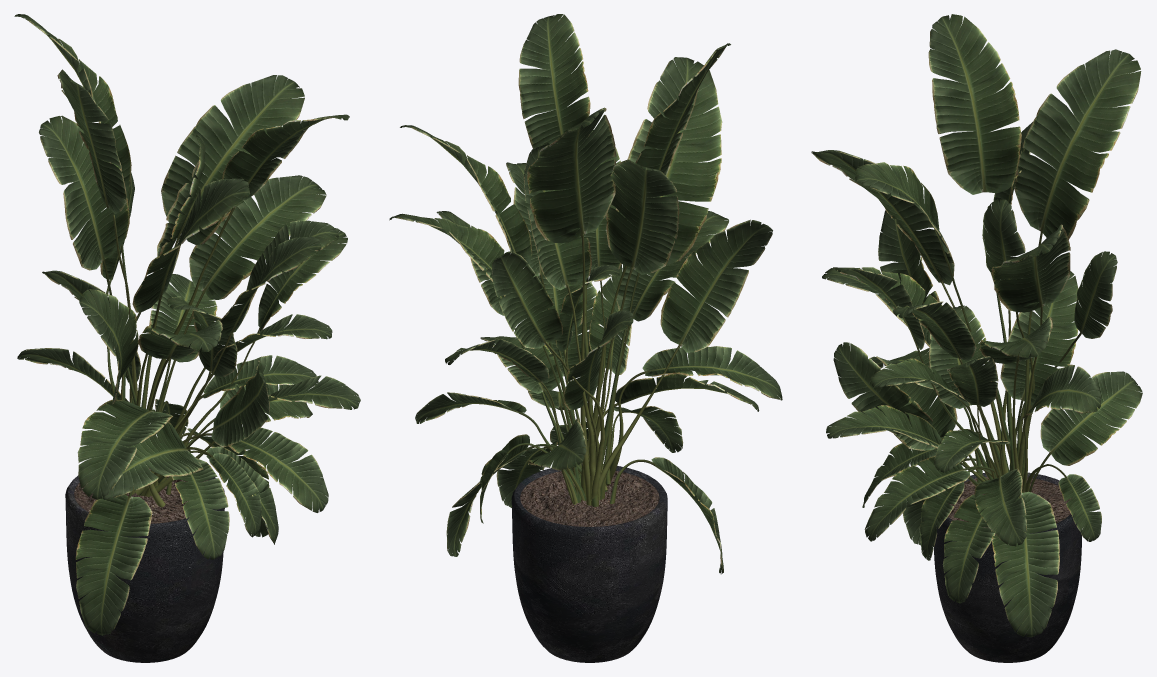
Rendered from 6cd42f5d-4c44-4fc2-b344-89e2329d1fdf.glb.
The picture shows the model from 3 angles, left to right: view 1: azimuth 30°, elevation 25°; view 2: azimuth 150°, elevation 25°; view 3: azimuth 270°, elevation 25°; orthographic projection. The views are drawn at different scales.
Visible parts, largest first — view 1: Banana Plants; view 2: Banana Plants; view 3: Banana Plants.
Part boxes in pixels (x1,y1,x2,y2): Banana Plants: (14,14,360,662); Banana Plants: (389,14,782,662); Banana Plants: (811,14,1142,662).
Bounding box in the file's own units: 0.4691 × 0.8677 × 0.4488.
Materials: 4 (4 with a texture image).
